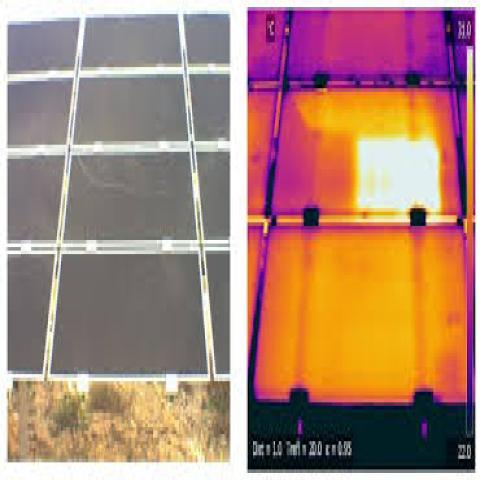fault: (358, 138, 439, 208)
